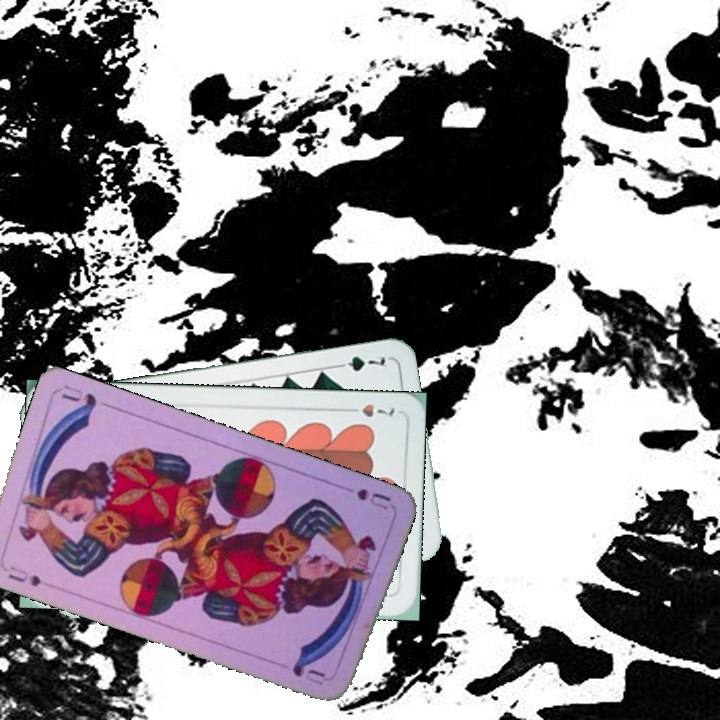G7: (331, 352, 388, 374)
H7: (340, 399, 397, 420)
SU: (352, 484, 394, 513), (4, 561, 44, 590)
